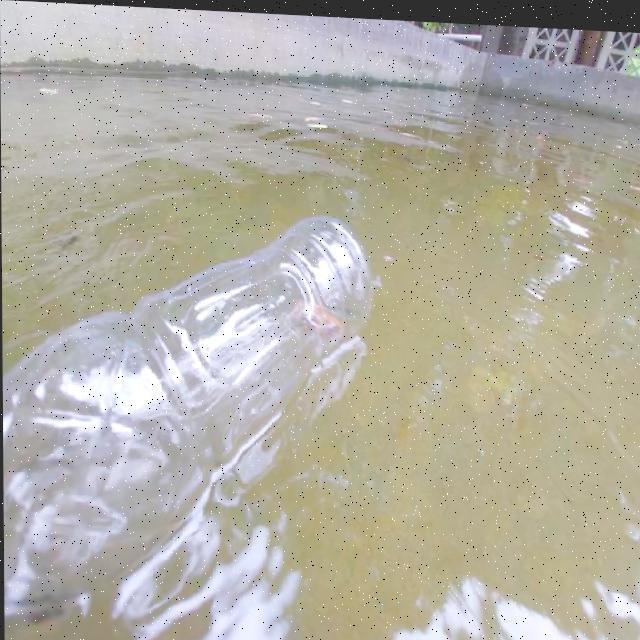Bottle: (0, 206, 380, 567)
